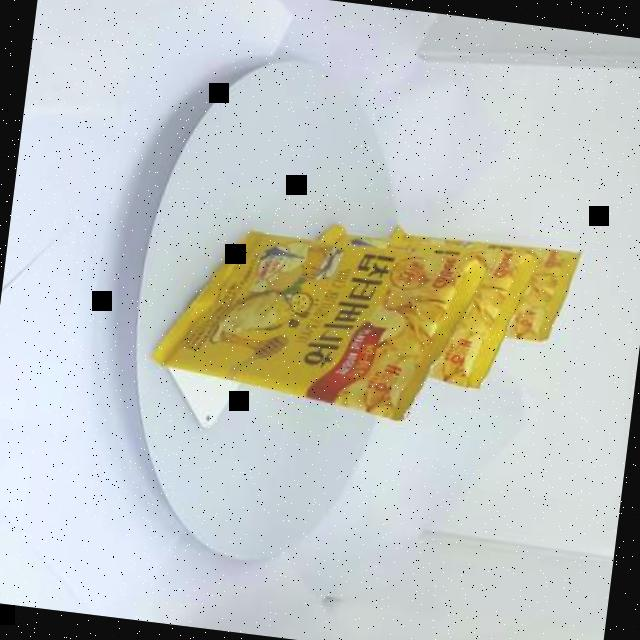snack_bag: (135, 177, 591, 449)
